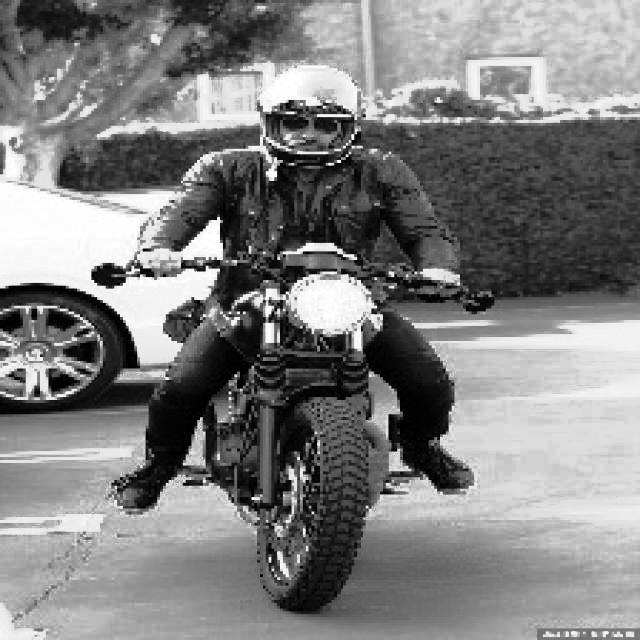Bike: (147, 244, 421, 600)
